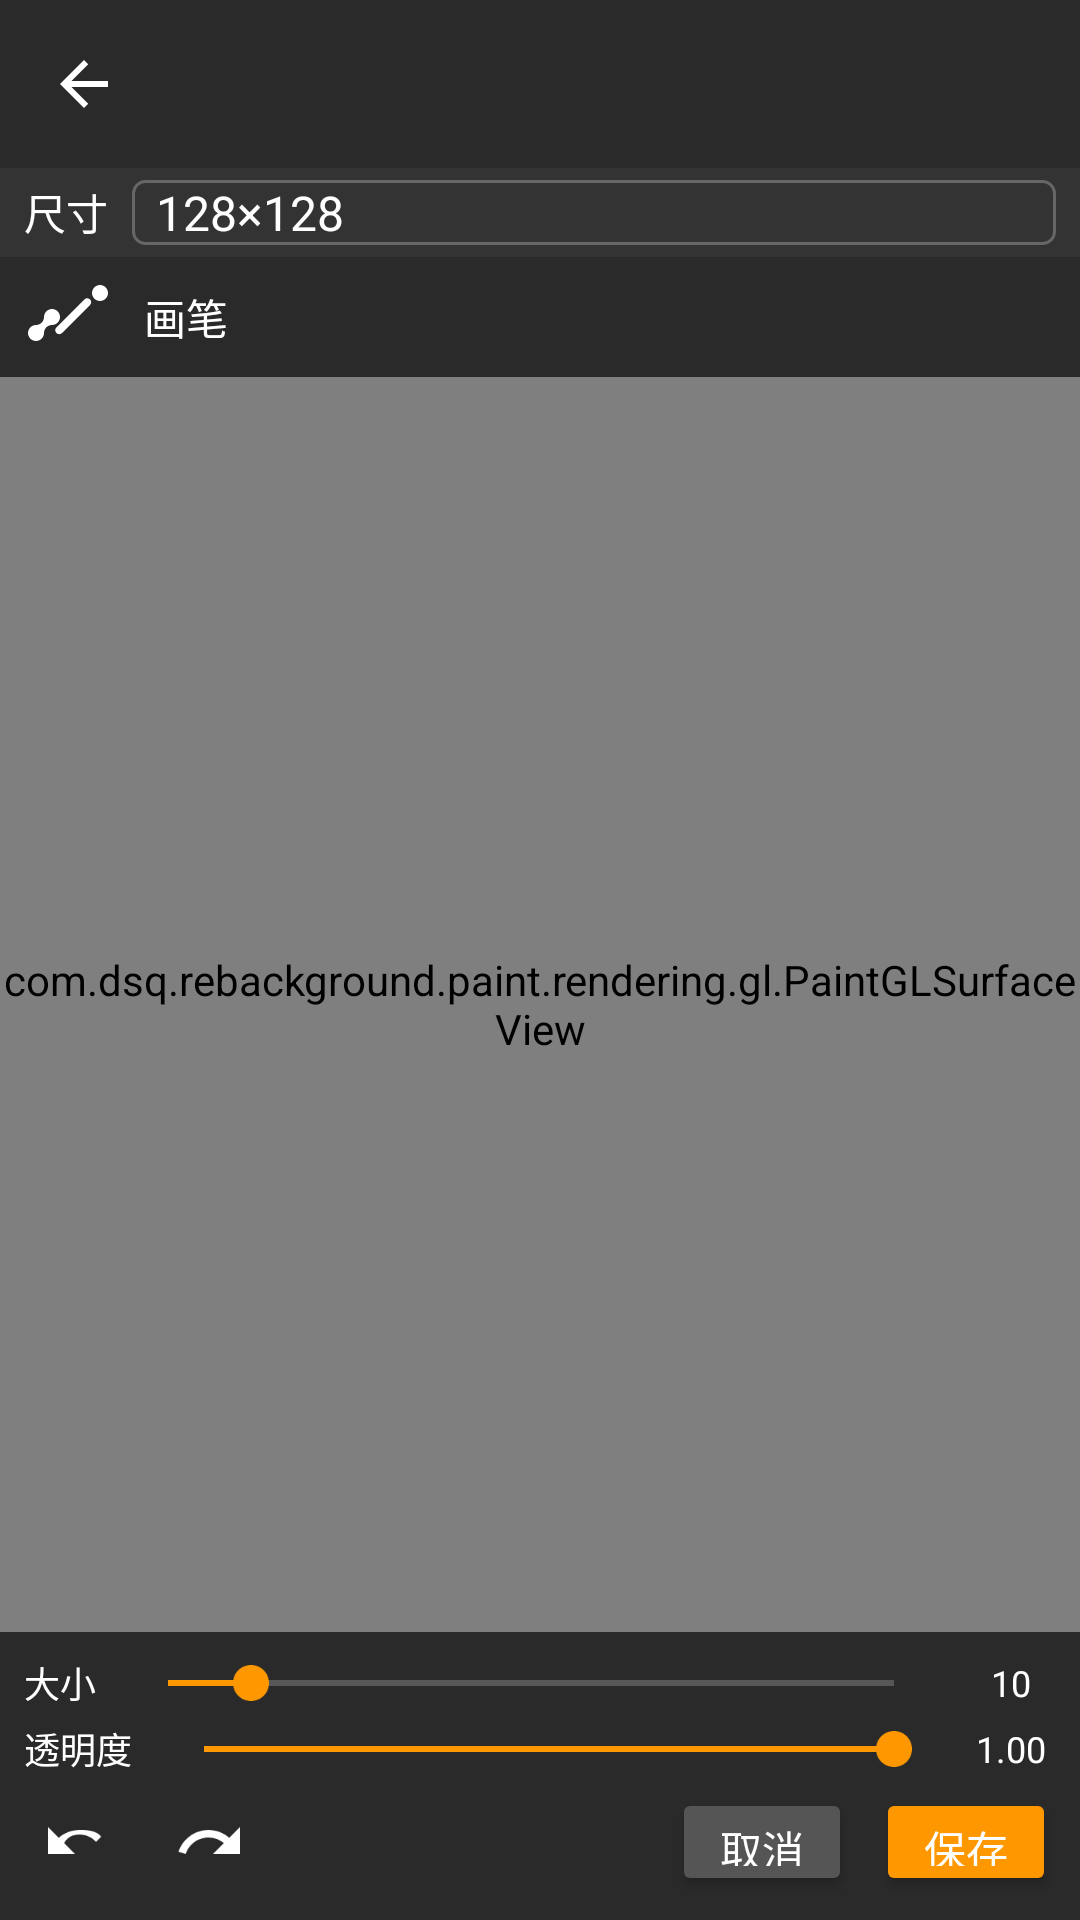

Where icons sit on this 1080px×1920px app screen, as BBox(x1, y1, x2, y2):
brush: BBox(28, 285, 108, 341)
撤销: BBox(48, 1827, 101, 1854)
重做: BBox(178, 1827, 240, 1854)
